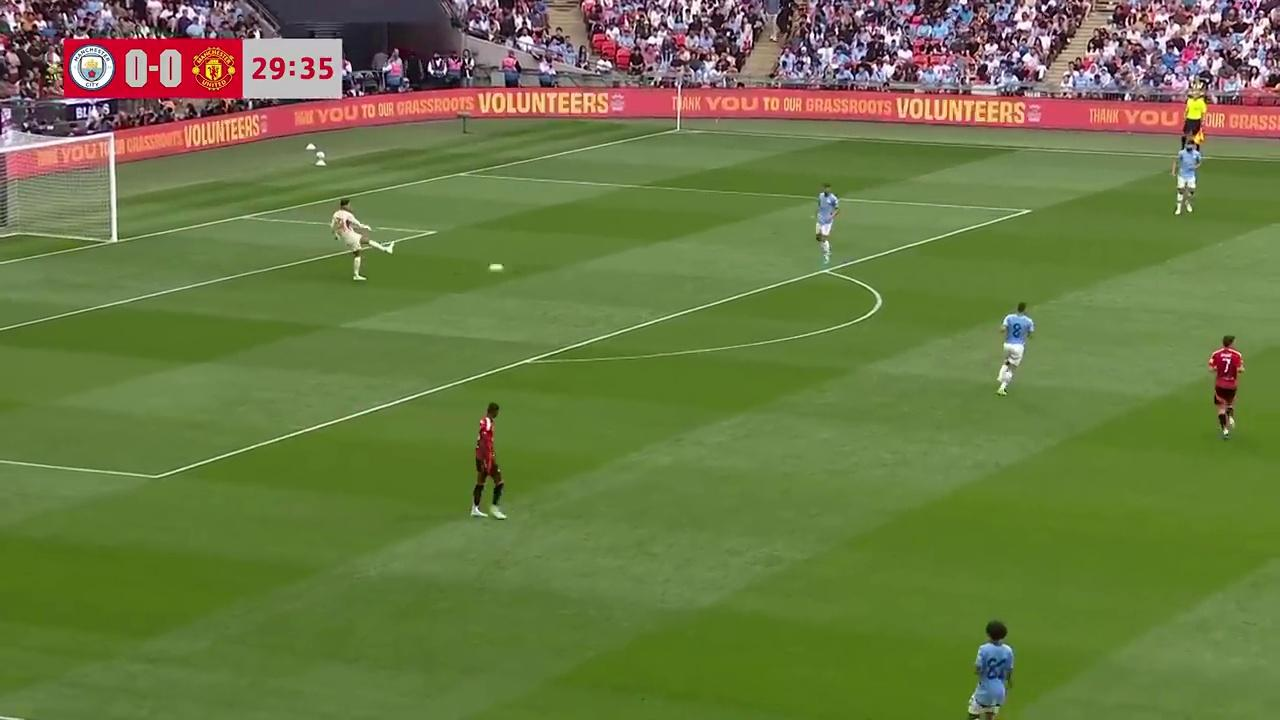ball: (485, 259, 506, 274)
player: (329, 196, 396, 281), (966, 619, 1014, 720), (470, 402, 507, 517), (1207, 334, 1244, 439), (996, 301, 1034, 396), (813, 184, 840, 263), (1171, 144, 1197, 215)
referee: (1179, 91, 1209, 149)
